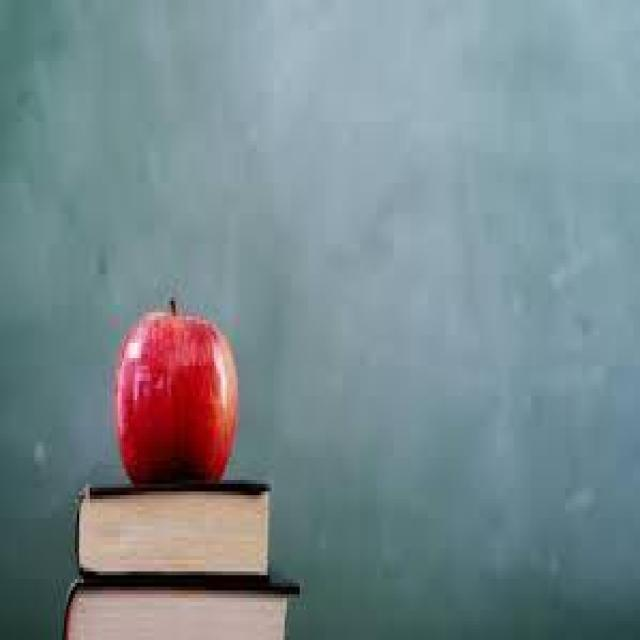maca: (111, 297, 238, 484)
